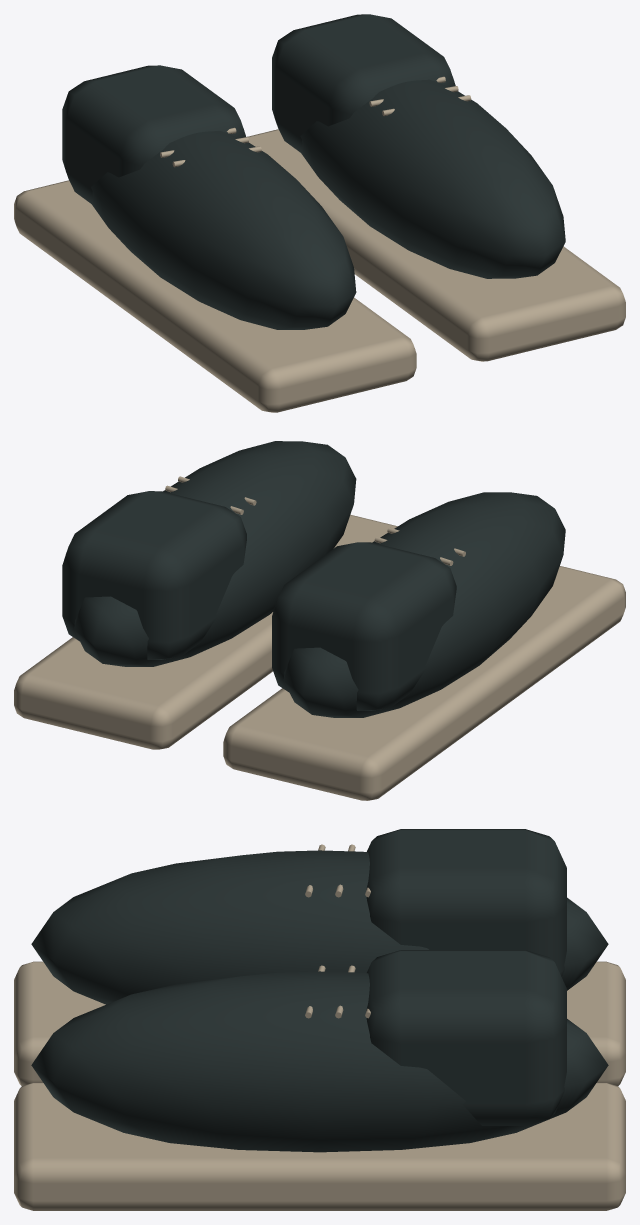
File: shoes-balanced-ec1d1d6c5c.glb
3 views of the same model, one above another, from view 1: azimuth 30°, elevation 25°; view 2: azimuth 150°, elevation 25°; view 3: azimuth 270°, elevation 25° (orthographic). The views are drawn at different scales.
Visible parts, largest first — view 1: dark, sole; view 2: dark, sole; view 3: dark, sole.
Part boxes in pixels (x1,y1,x2,y2): dark: (62, 14, 565, 329); sole: (14, 76, 625, 412); dark: (62, 441, 565, 717); sole: (14, 476, 625, 800); dark: (31, 829, 608, 1152); sole: (14, 844, 625, 1210).
Bounding box in the file's own units: 0.217 × 0.097 × 0.265.
